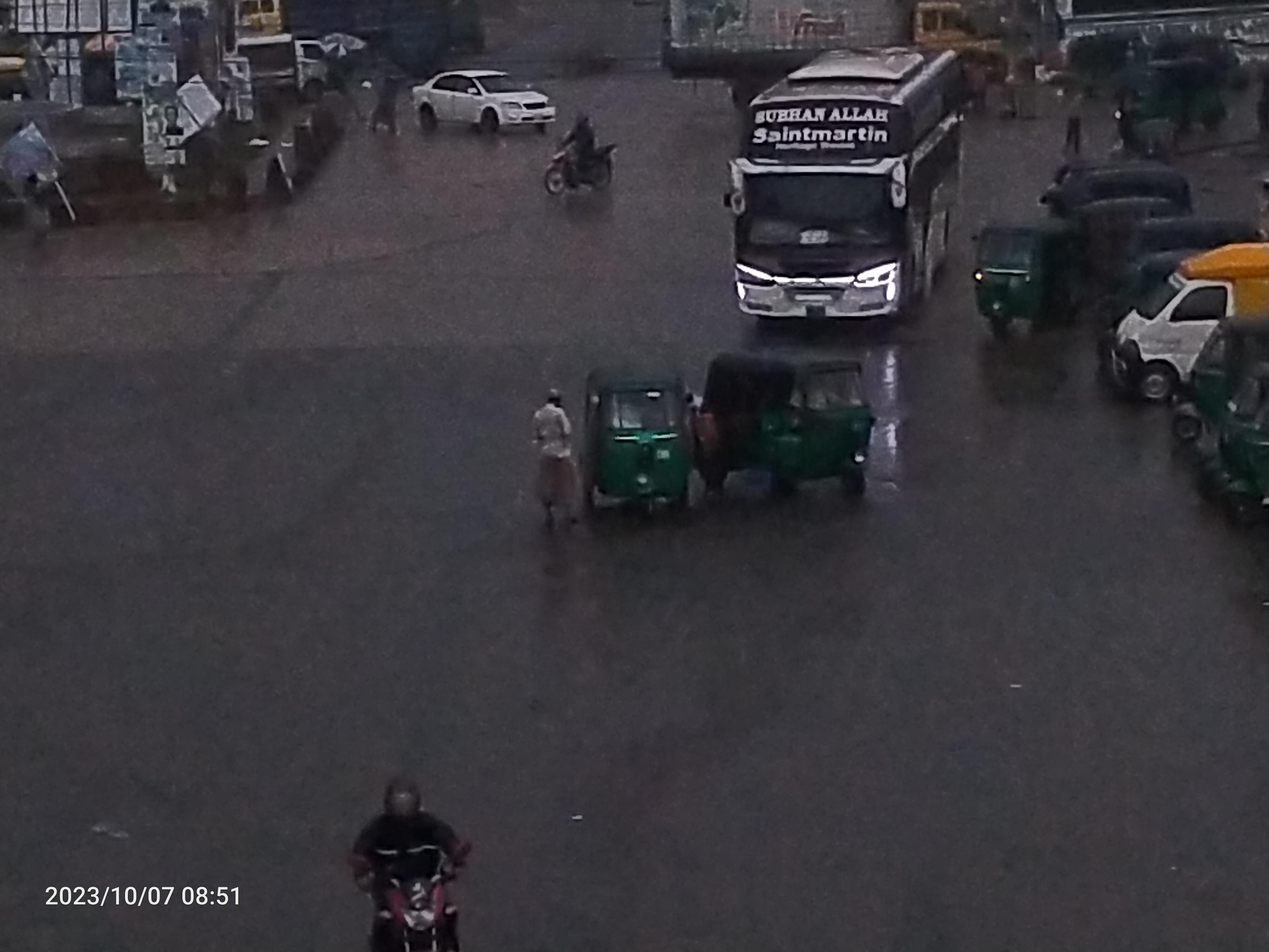Bike: (292, 755, 517, 952), (520, 98, 641, 225)
Bus: (692, 25, 977, 370)
Car: (1100, 226, 1269, 418), (393, 50, 571, 160)
